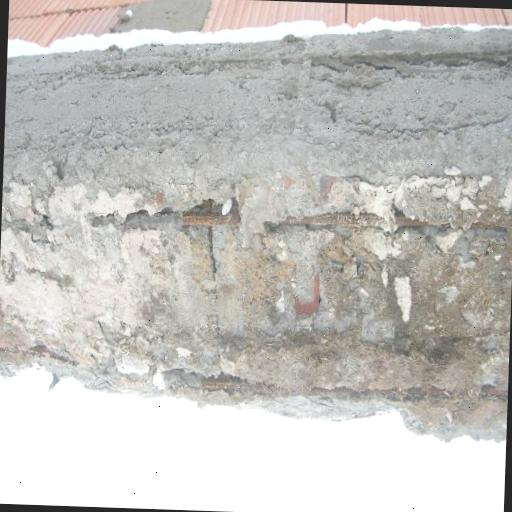spalling: (0, 174, 512, 436)
